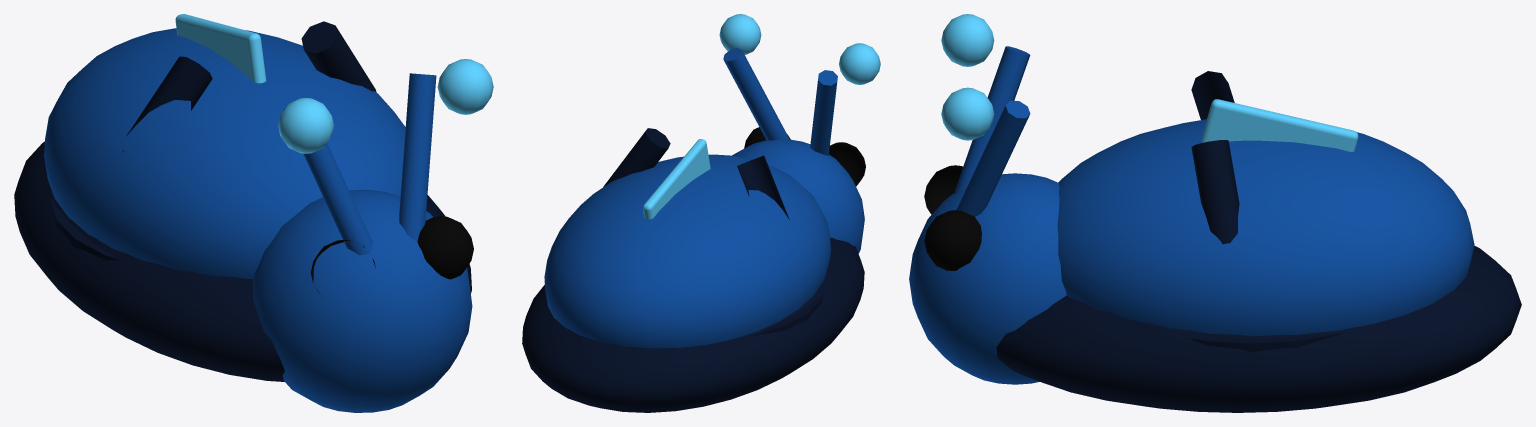
File: abisal.obj
The picture shows the model from 3 angles, left to right: view 1: azimuth 30°, elevation 25°; view 2: azimuth 150°, elevation 25°; view 3: azimuth 270°, elevation 25°; orthographic projection. The views are drawn at different scales.
Bounding box in the file's own units: 0.472 × 0.446 × 0.7635.
